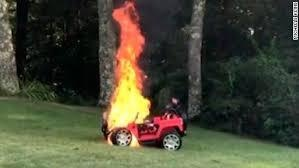fire: (103, 0, 153, 129)
